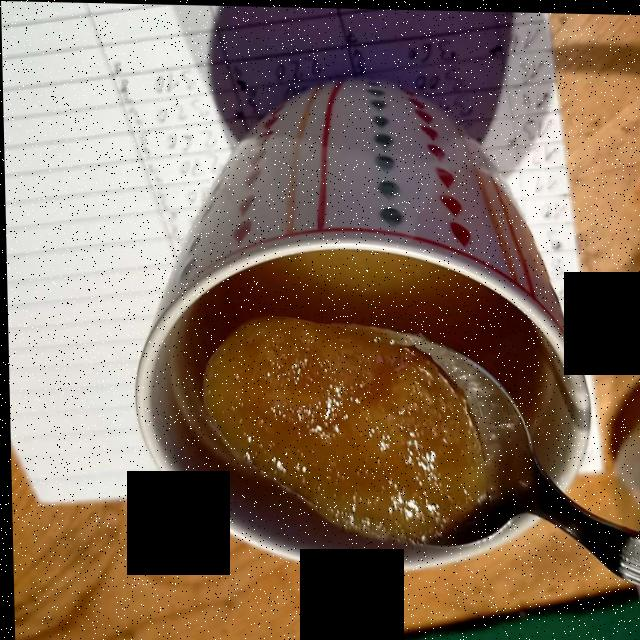herbal-tea: (172, 261, 541, 440)
honey: (197, 341, 482, 520)
